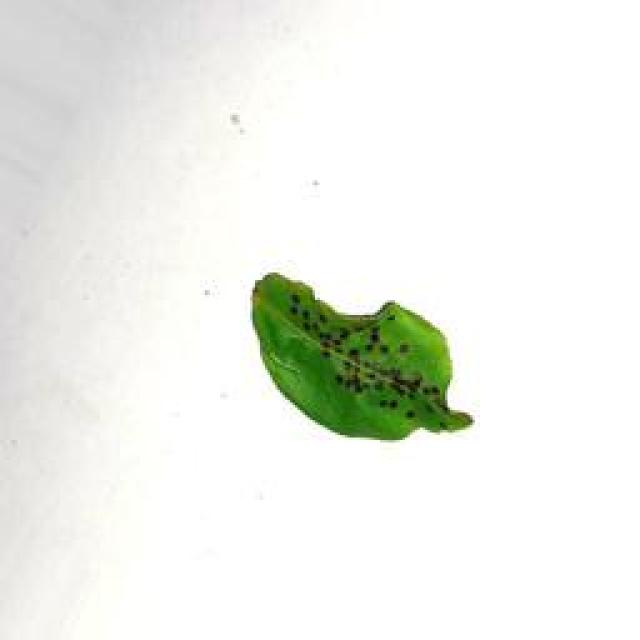Helopeltis: (243, 250, 485, 444)
